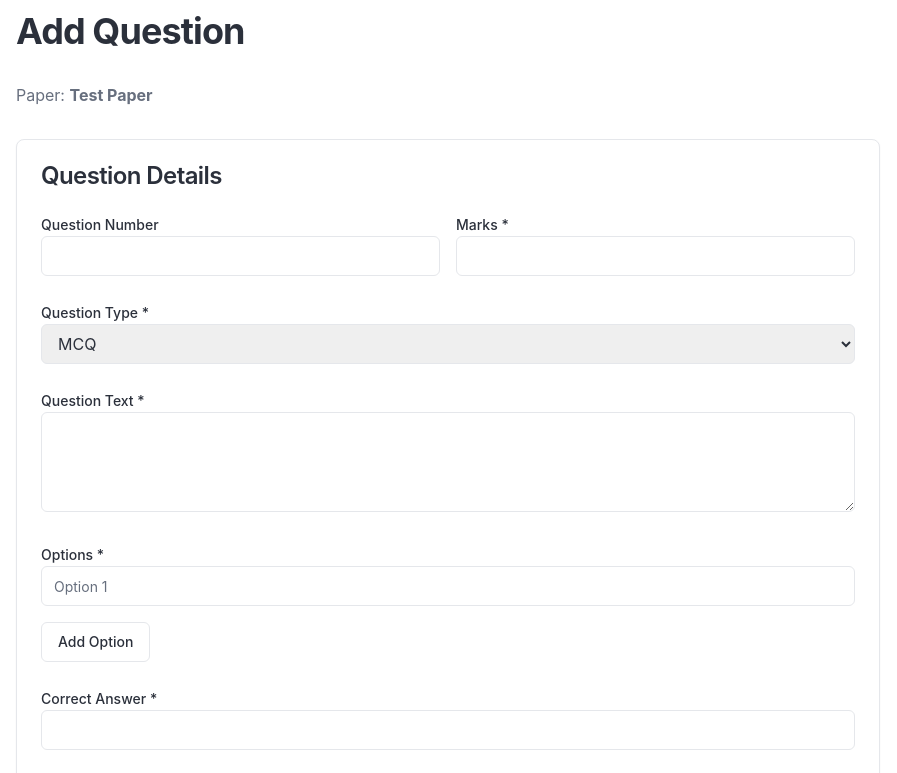
Test case: QuestionFormPage › should show answer keywords field for Short Answer type
Select "Short Answer" in the dropdown labelled "Question Type *" at (448, 344), box [41, 324, 855, 364]
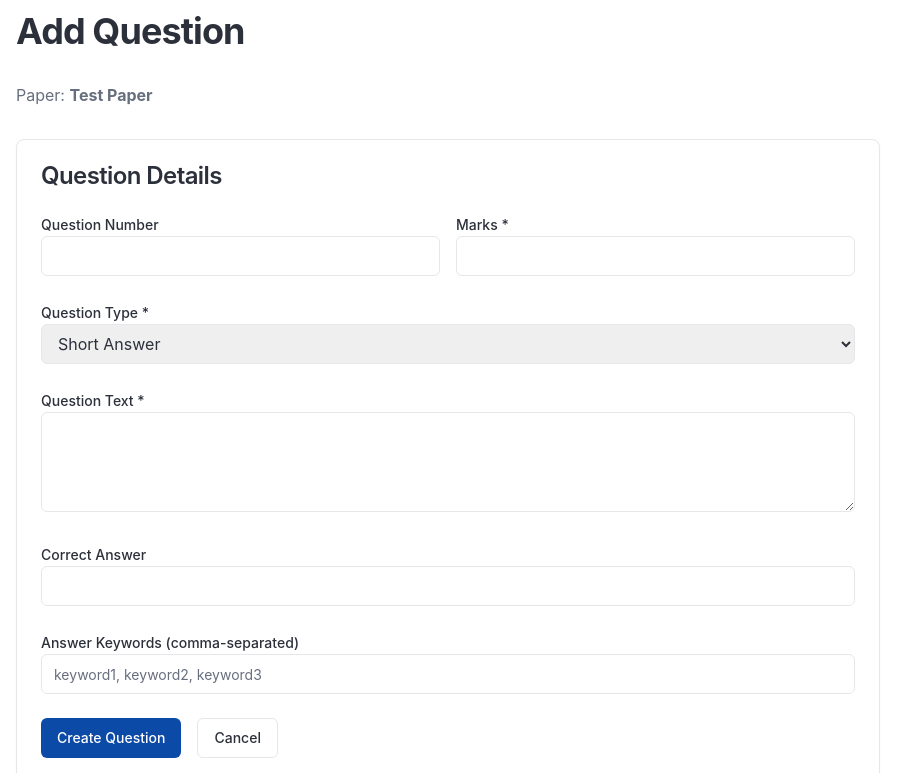
Result: the field labelled "Answer Keywords (comma-separated)" is shown at [41, 654, 855, 694]
